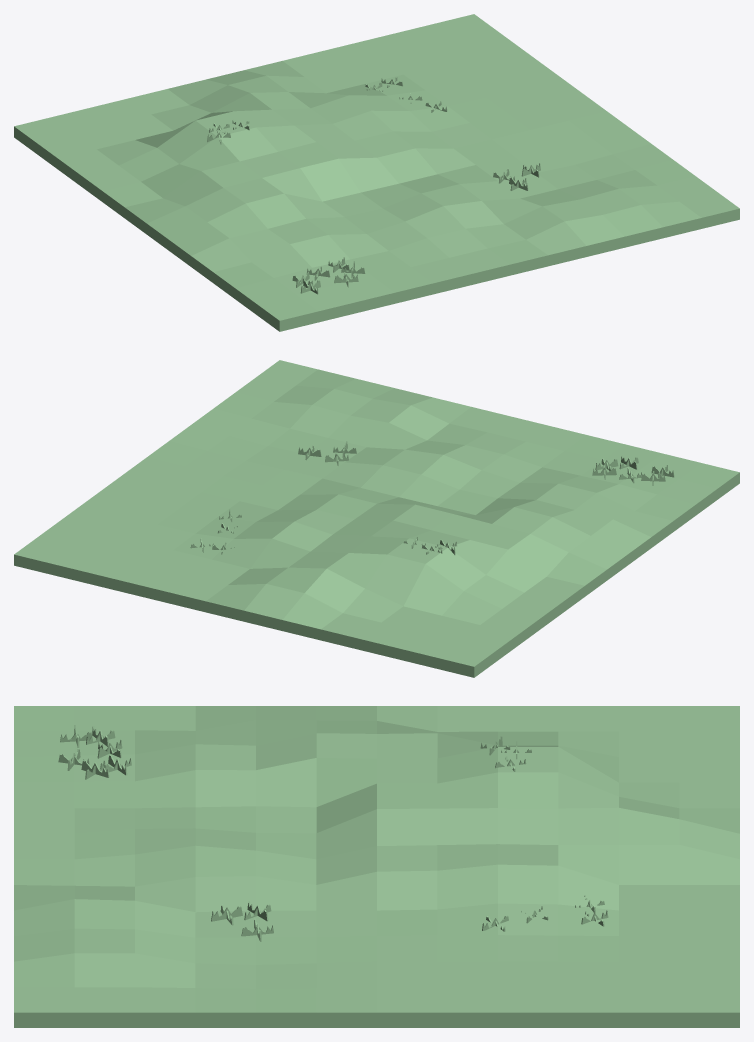
Rendered from Plains III.fbx.
3 views of the same model, one above another, from view 1: azimuth 30°, elevation 25°; view 2: azimuth 150°, elevation 25°; view 3: azimuth 270°, elevation 25° (orthographic). The views are drawn at different scales.
Parts seen in each view (by area): view 1: Plains III; view 2: Plains III; view 3: Plains III.
Boxes of the visible parts, x1,y1,x2,y2 form: Plains III: (14,14,739,331); Plains III: (14,360,739,677); Plains III: (14,706,739,1027).
Size of the model in its own units: 1603 by 140 by 1603.
